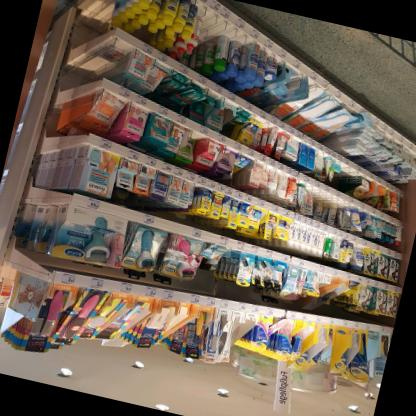empty_space: (199, 22, 239, 44)
